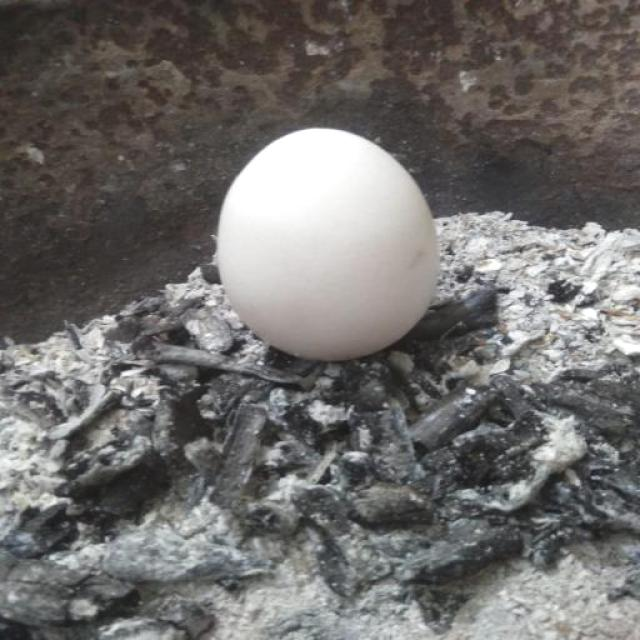telur: (216, 128, 436, 360)
